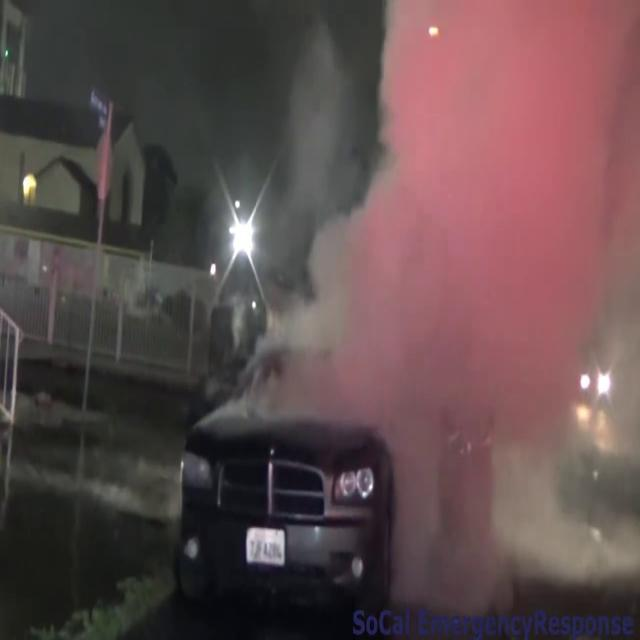Smoke: (310, 1, 640, 594)
